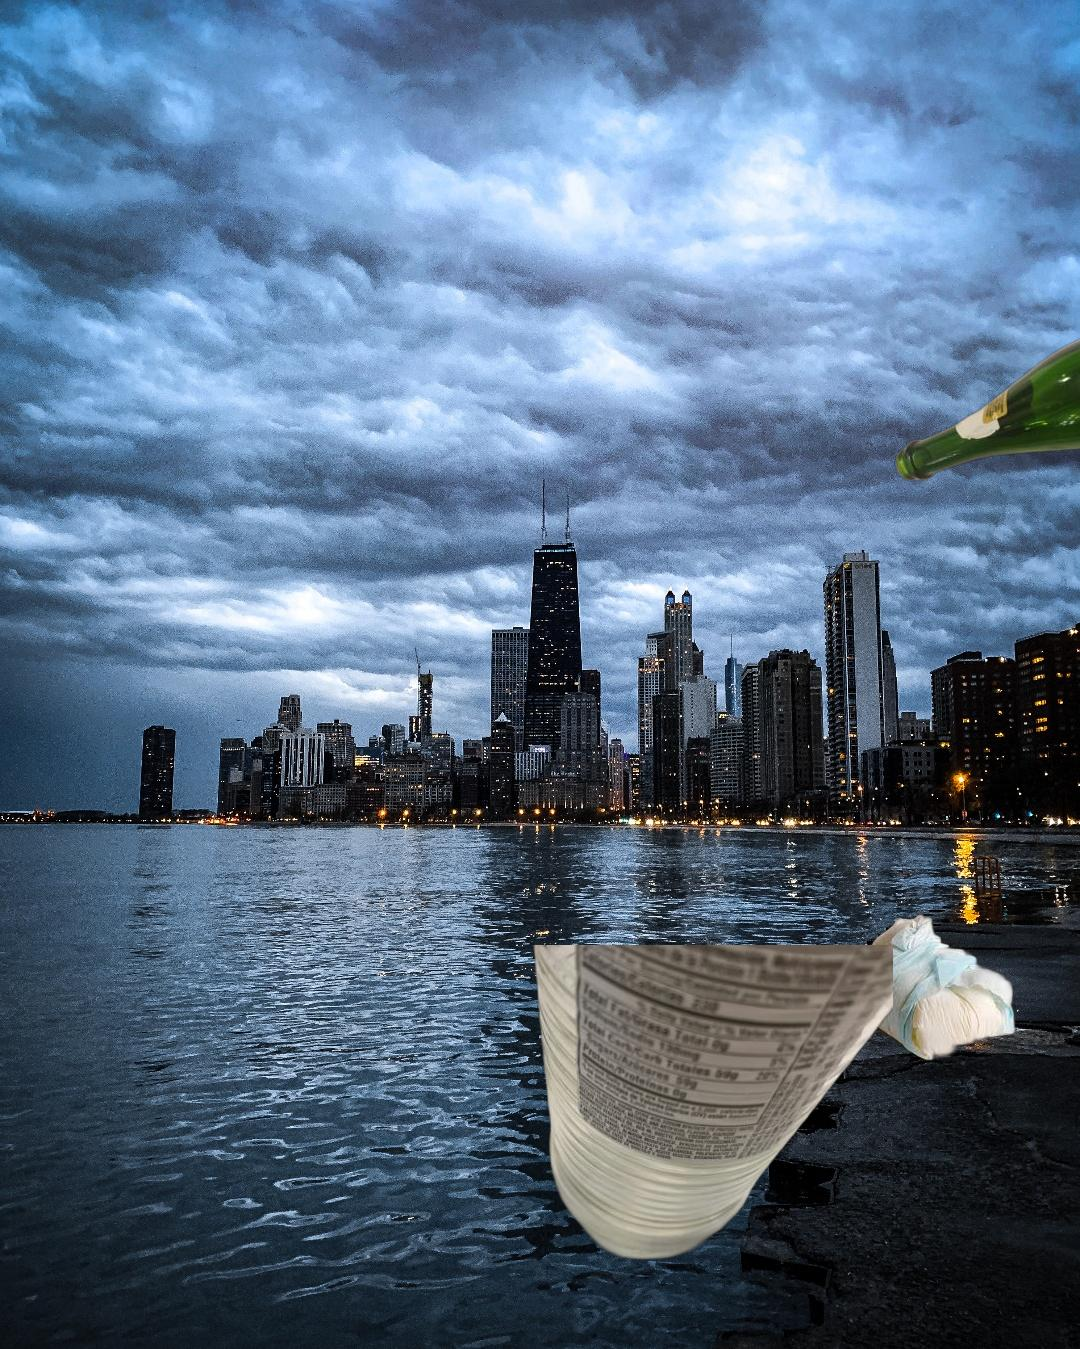glass: (528, 945, 893, 1269), (890, 273, 1080, 482)
trash: (789, 908, 1020, 1064)
